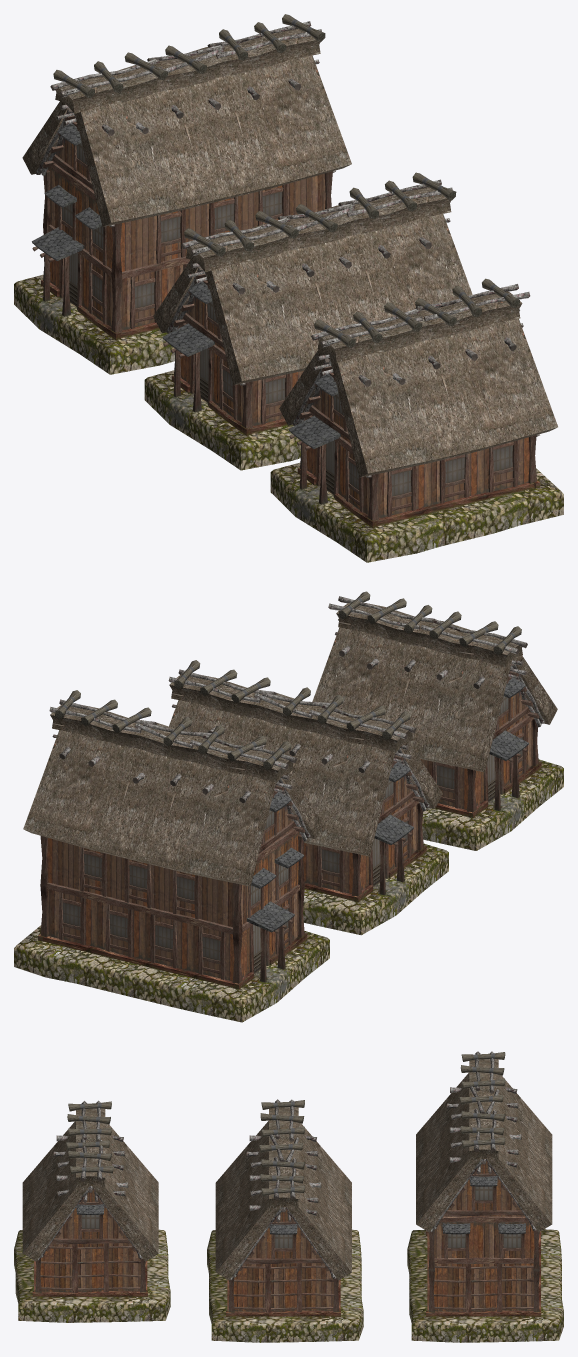
File: dojo_5.glb
3 renders of one model, top to bottom at view 1: azimuth 30°, elevation 25°; view 2: azimuth 150°, elevation 25°; view 3: azimuth 270°, elevation 25°, orthographic. The views are drawn at different scales.
Visible parts, largest first — view 1: House002, House, House001; view 2: House002, House, House001; view 3: House002, House001, House.
Boxes of the visible parts, x1,y1,x2,y2 form: House002: [14, 14, 351, 374]; House: [270, 278, 563, 562]; House001: [144, 172, 472, 470]; House002: [14, 690, 329, 1022]; House: [312, 591, 563, 850]; House001: [168, 660, 448, 935]; House002: [407, 1051, 563, 1342]; House001: [207, 1099, 363, 1342]; House: [14, 1100, 170, 1322].
Bounding box in the file's own units: 3.18 × 2.94 × 7.4.
Materials: 1 (1 with a texture image).
